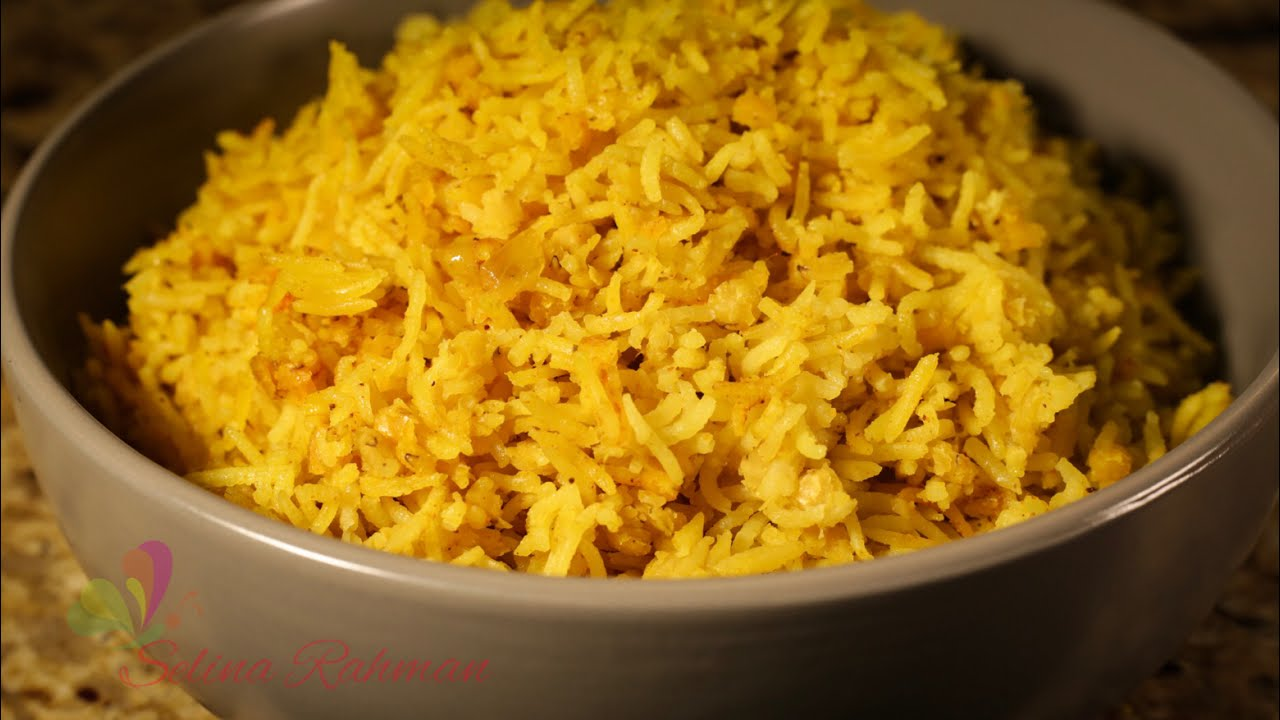khichuri: (134, 3, 1221, 591)
